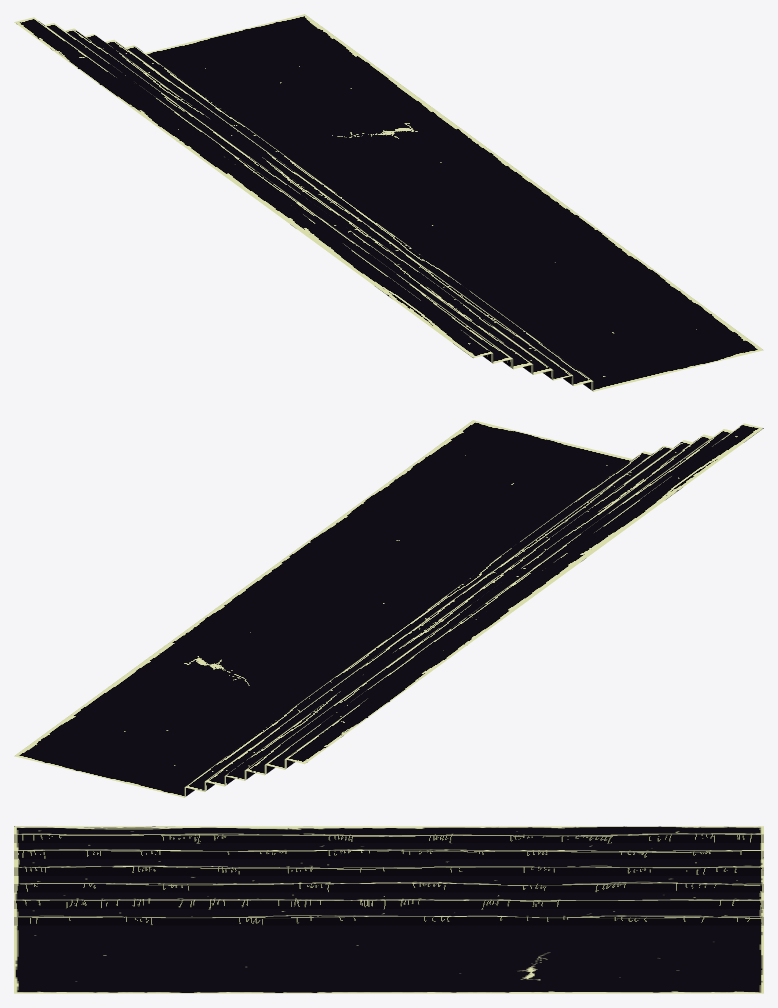
The model's file is stair_0001.fbx.
The picture shows the model from 3 angles, top to bottom: view 1: azimuth 30°, elevation 25°; view 2: azimuth 150°, elevation 25°; view 3: azimuth 270°, elevation 25°; orthographic projection. The views are drawn at different scales.
Visible parts, largest first — view 1: Stair_0001; view 2: Stair_0001; view 3: Stair_0001.
Part boxes in pixels (left/top/right/bottom): Stair_0001: left=14, top=14, right=763, bottom=391; Stair_0001: left=14, top=420, right=763, bottom=797; Stair_0001: left=14, top=826, right=763, bottom=993.
Size of the model in its own units: 2900 by 600 by 7929.
